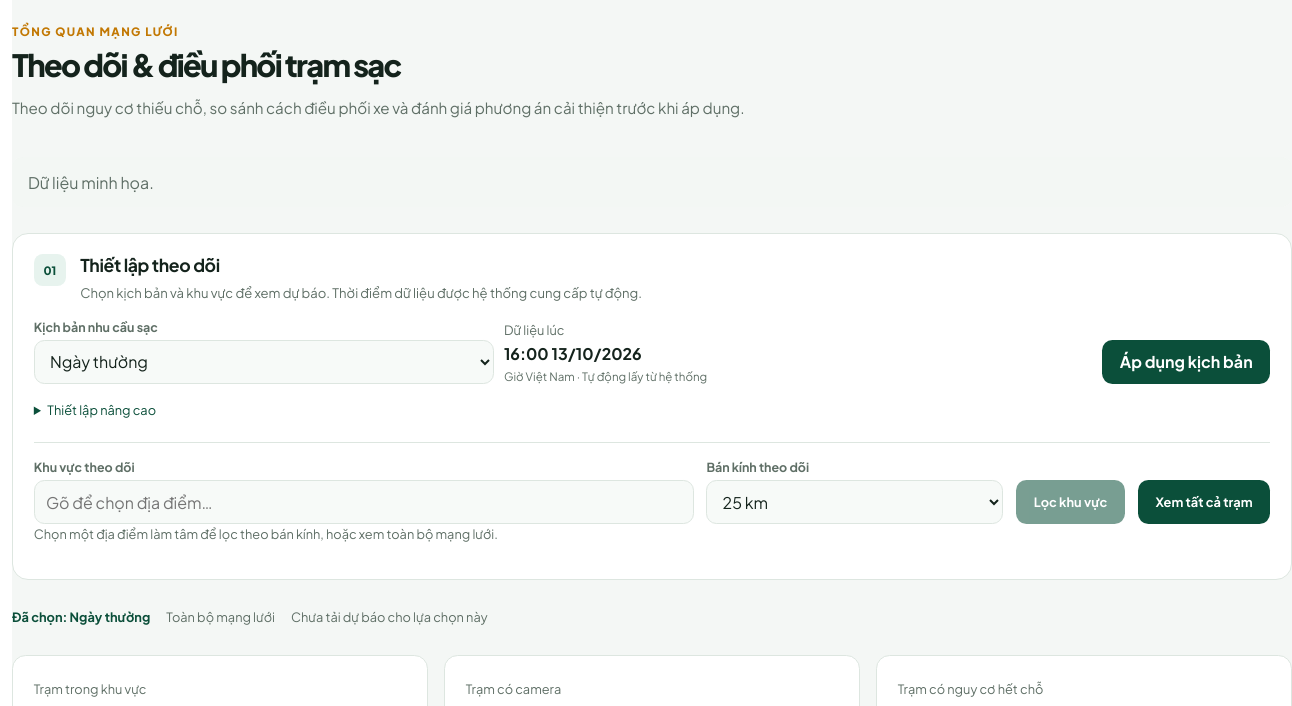
Test: operator uses the backend clock and converts optional history selection to Vietnam time
The image size is (1292, 706).
Expected: the button "Áp dụng kịch bản" is enabled, x1=1102 y1=340 x2=1270 y2=384
Click the heading "Thiết lập nâng cao".
click(102, 410)  # box x1=47 y1=402 x2=156 y2=418
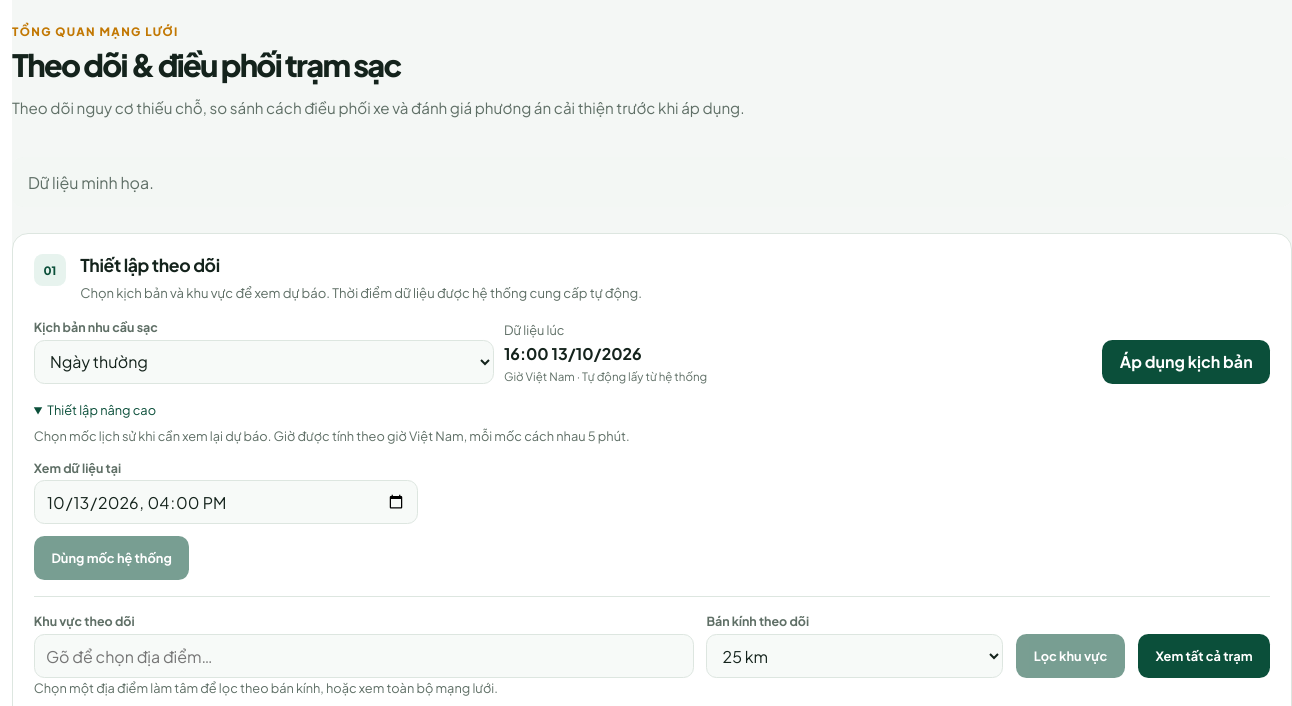
Replace the text in the field labelled "Xem dữ liệu tại" with "2026-10-13T18:00" at (226, 502), box x1=34 y1=480 x2=418 y2=524
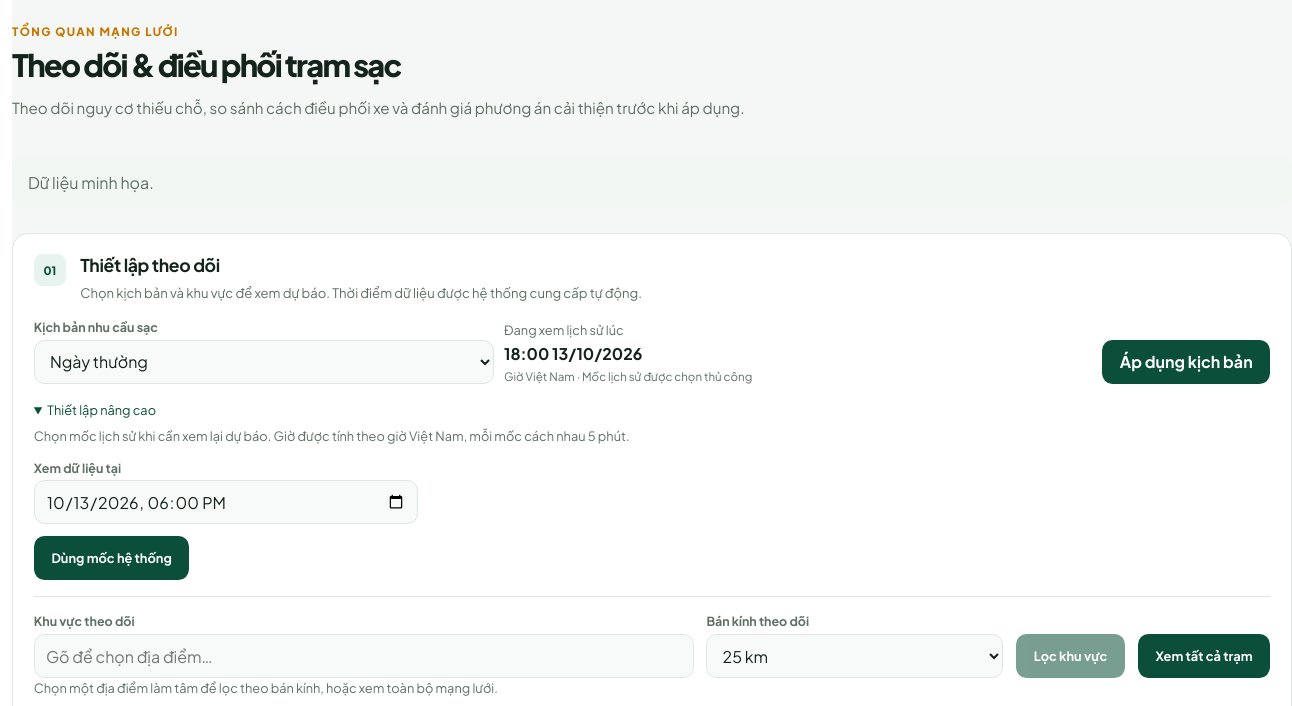
Expected: the text "Đang xem lịch sử lúc" is shown, x1=504 y1=322 x2=624 y2=338
Click the button "Áp dụng kịch bản".
click(1186, 362)  # box x1=1102 y1=340 x2=1270 y2=384
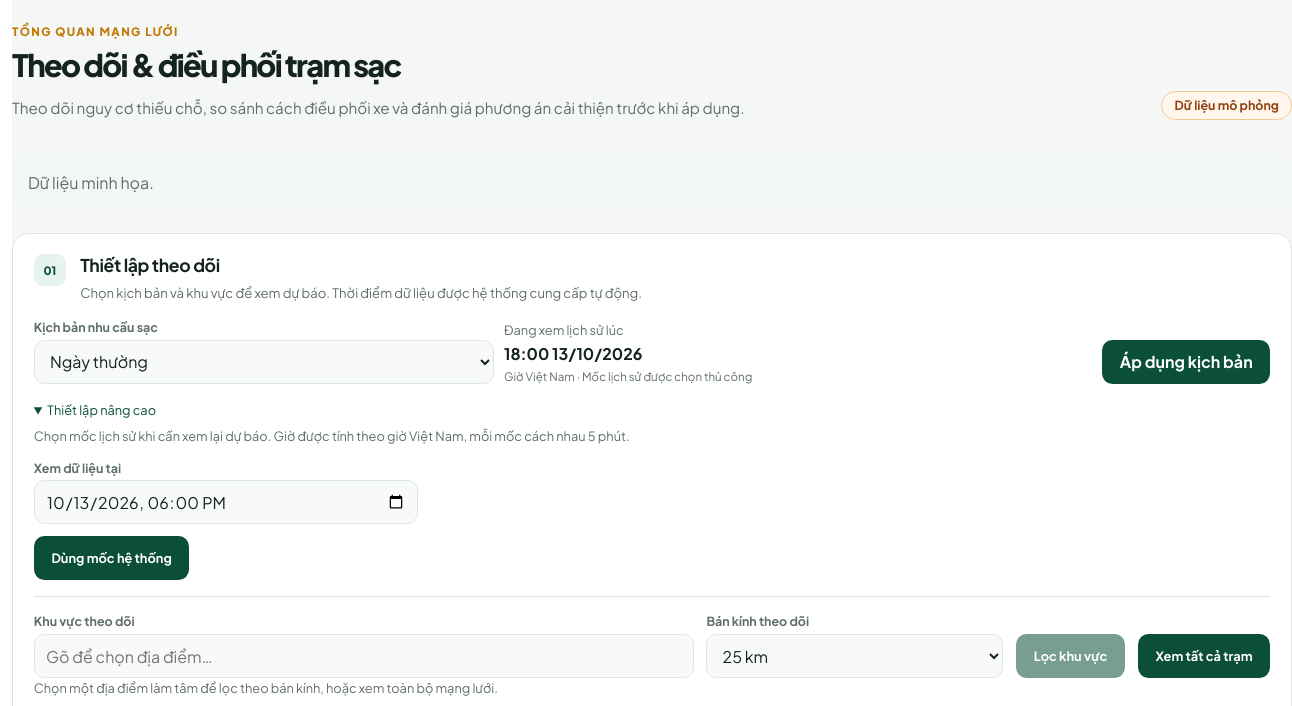
Click the button "Dùng mốc hệ thống".
click(112, 558)  # box x1=34 y1=536 x2=189 y2=580
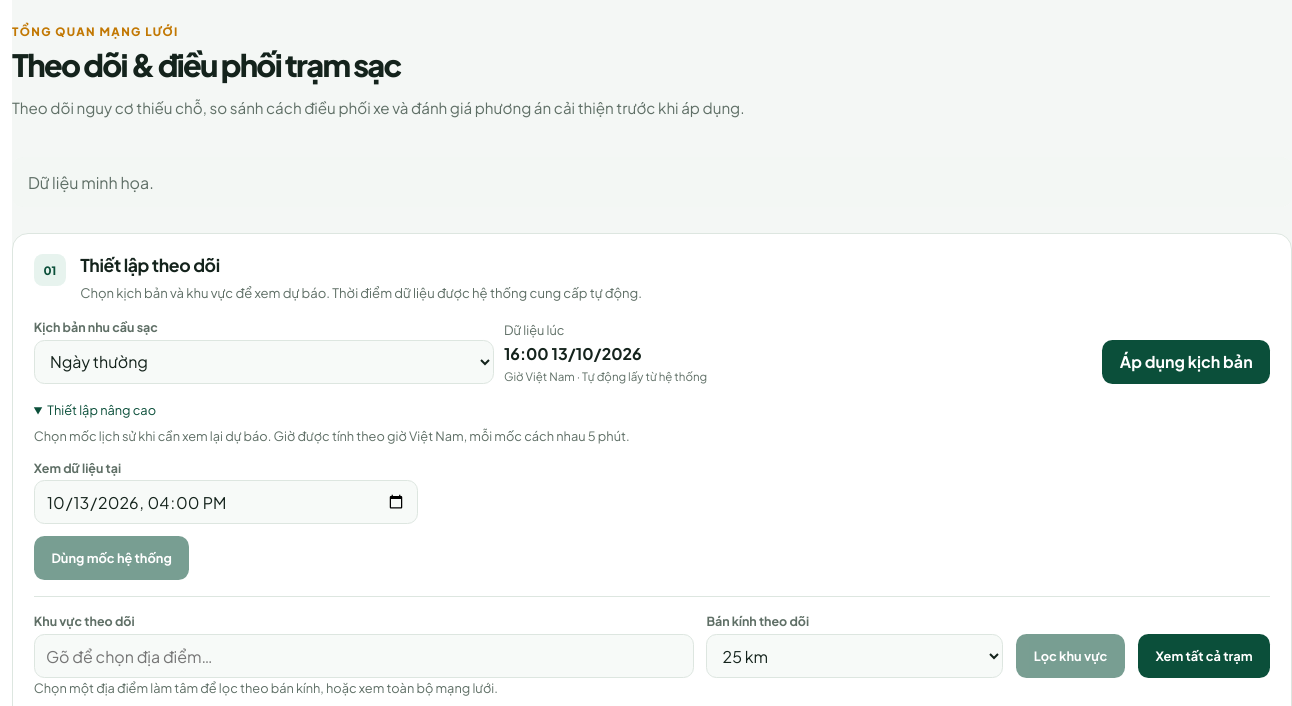
Expected: the text "Dữ liệu lúc" is shown, x1=504 y1=322 x2=564 y2=338
